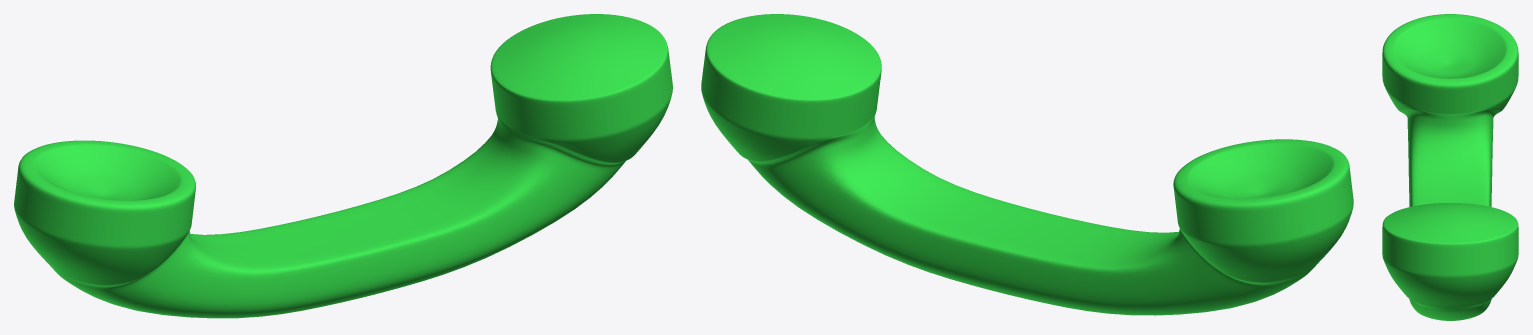
File: phone.glb
The picture shows the model from 3 angles, left to right: view 1: azimuth 30°, elevation 25°; view 2: azimuth 150°, elevation 25°; view 3: azimuth 270°, elevation 25°; orthographic projection. The views are drawn at different scales.
Visible parts, largest first — view 1: phone; view 2: phone; view 3: phone.
Boxes of the visible parts, x1=… form: phone: x1=14, y1=14, x2=672, y2=318; phone: x1=701, y1=14, x2=1353, y2=315; phone: x1=1382, y1=14, x2=1518, y2=320.
Size of the model in its own units: 34.42 by 11.55 by 8.41.
